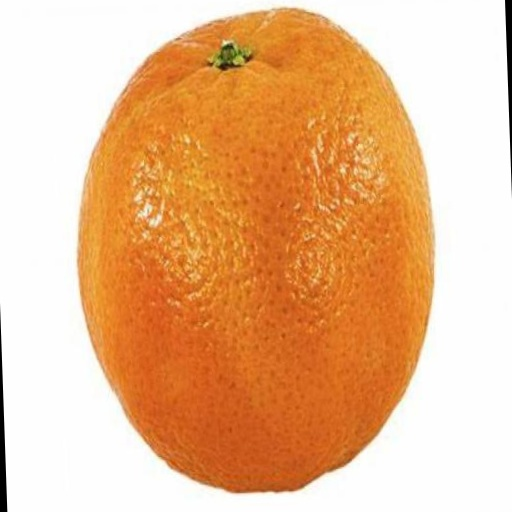fruit: (79, 10, 433, 491)
